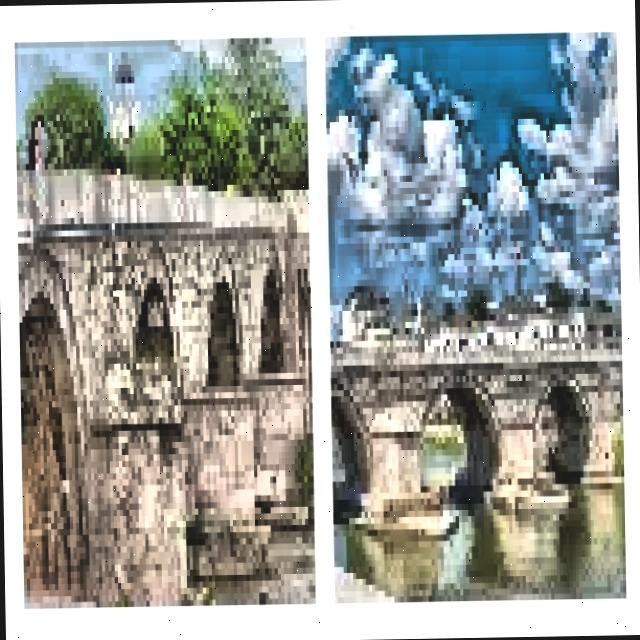stone bridge: (0, 128, 316, 603), (326, 332, 640, 491)
